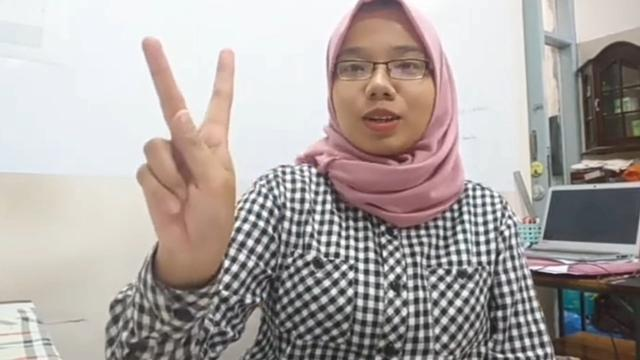K: (132, 36, 240, 262)
